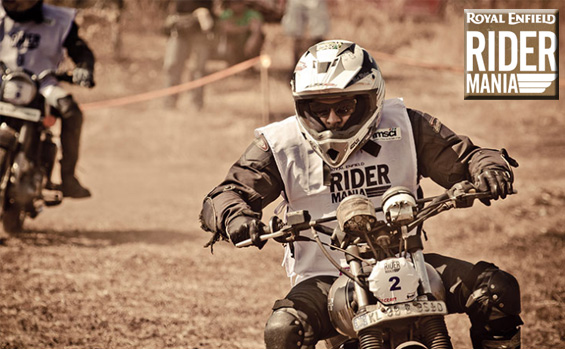helmet: (286, 38, 385, 165)
